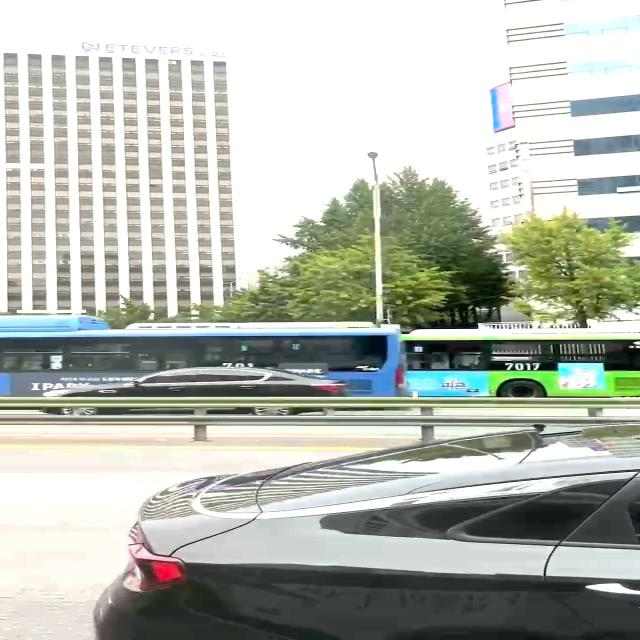building: (0, 48, 238, 322), (476, 0, 639, 326)
car: (92, 420, 639, 639), (8, 309, 410, 398), (410, 316, 634, 402), (39, 366, 349, 416)
